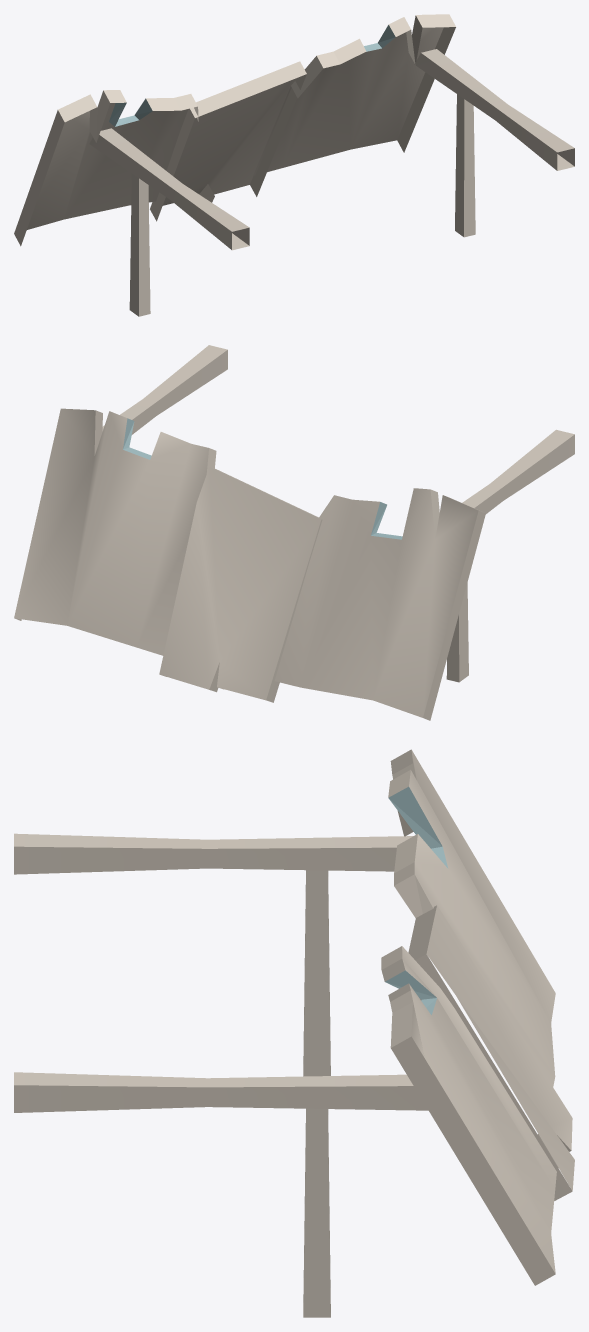
3 views of the same model, one above another, from view 1: azimuth 30°, elevation 25°; view 2: azimuth 150°, elevation 25°; view 3: azimuth 270°, elevation 25° (orthographic). The views are drawn at different scales.
Parts seen in each view (by area): view 1: Object12; view 2: Object12; view 3: Object12.
Boxes of the visible parts, x1,y1,x2,y2 form: Object12: (14,14,574,316); Object12: (14,345,574,720); Object12: (14,749,574,1317).
Bounding box in the file's own units: 39701 × 19416 × 32783.
